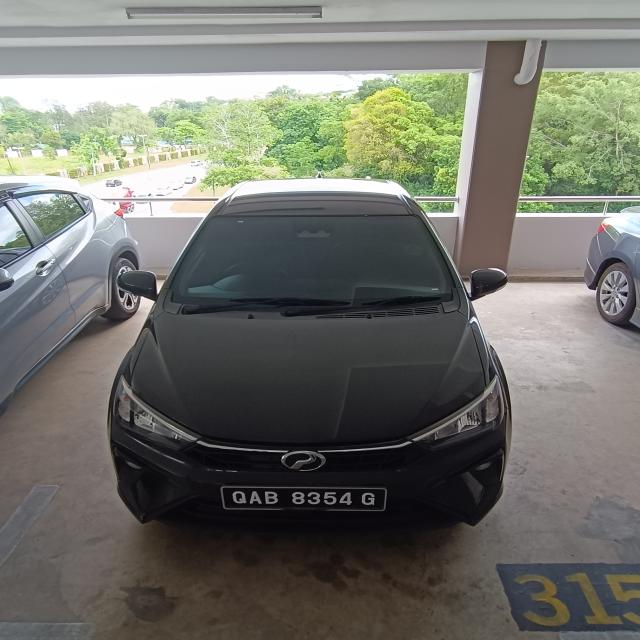PeroduaBezza: (106, 175, 513, 530)
